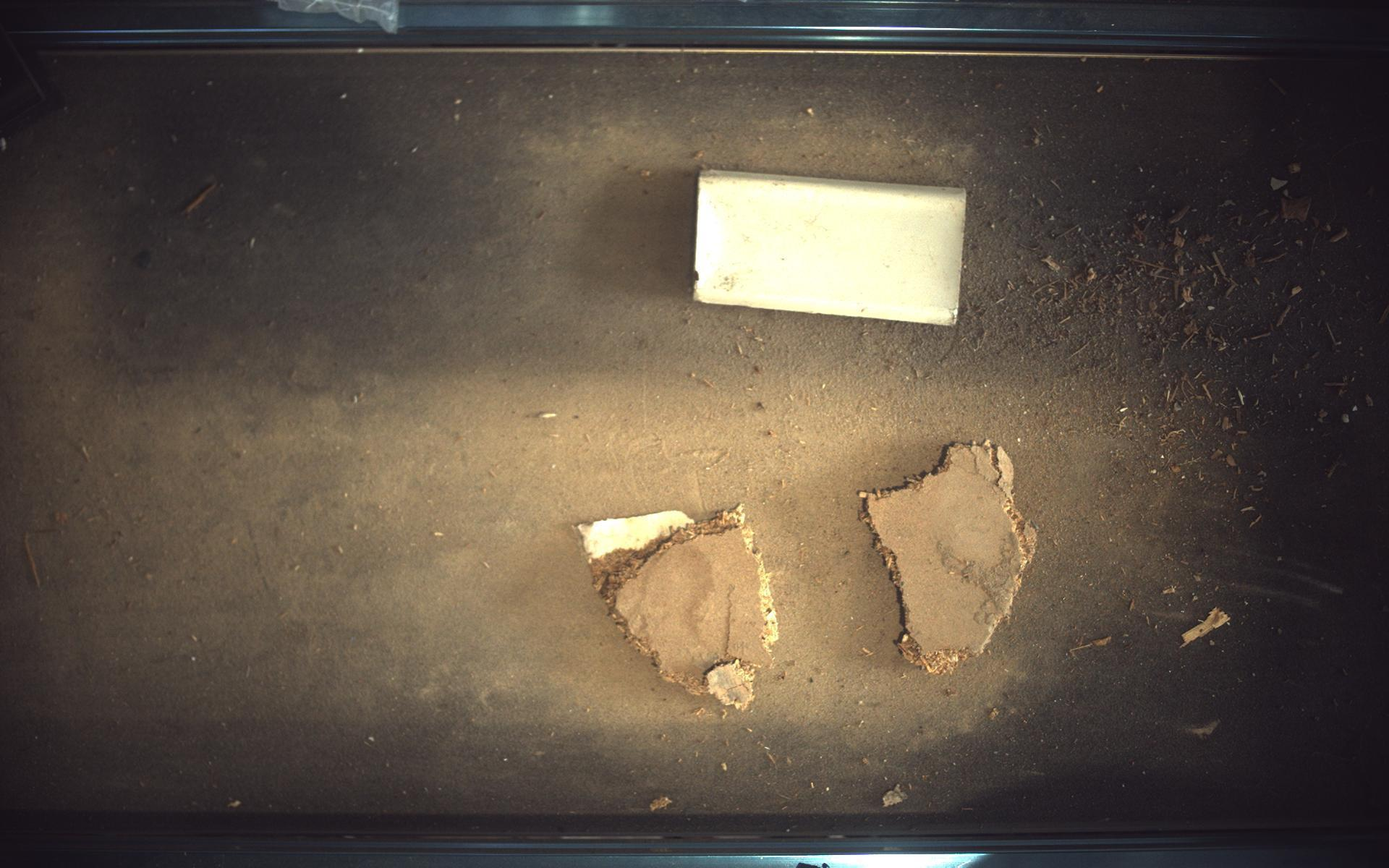wood: (694, 169, 968, 325), (862, 441, 1039, 675), (578, 506, 780, 711)
